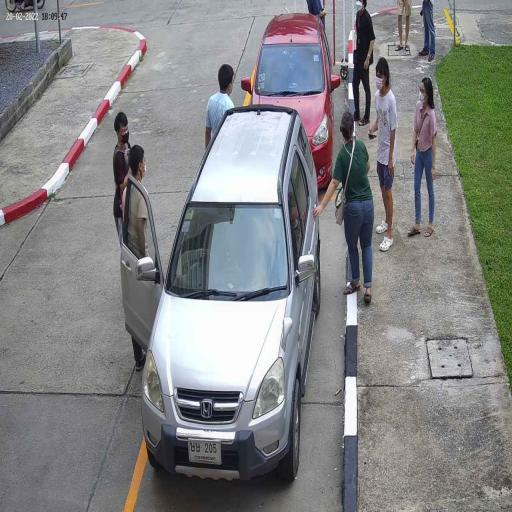car: (140, 105, 320, 487), (247, 14, 336, 190)
